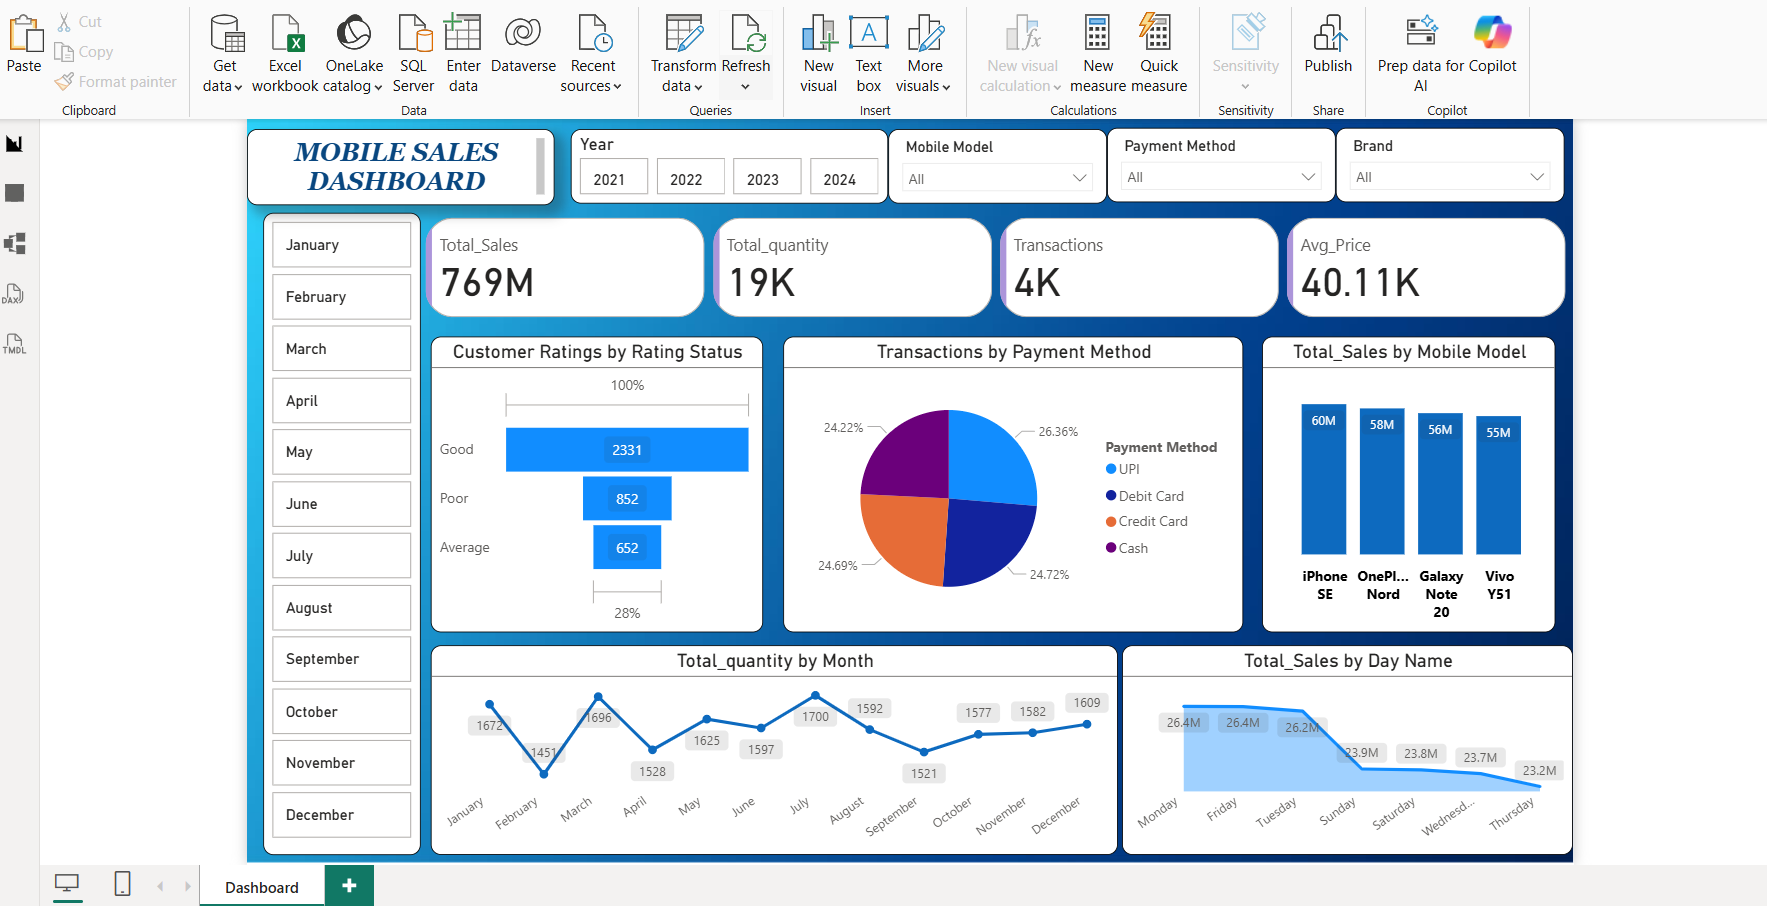

This screenshot's page, from the dashboard's own definition file:
{"tool":"powerbi","page":{"name":"Dashboard","canvas":[1280,720],"ordinal":0},"visuals":[{"type":"advancedSlicerVisual","fields":{"Values":["Custom_Calender.Date.Variation.Date Hierarchy.Month"]},"box":[15.7,90.5,152,620.1],"z":0},{"type":"cardVisual","fields":{"Data":["Sales_Data.Total_Sales","Sales_Data.Total_quantity","Sales_Data.Transactions","Sales_Data.Avg_Price"]},"box":[167.7,90.5,1112.3,106.2],"z":1000},{"type":"slicer","fields":{"Values":["Sales_Data.Mobile Model"]},"box":[618.9,9.7,211.1,72.4],"z":2000},{"type":"slicer","fields":{"Values":["Sales_Data.Brand"]},"box":[1050.8,8.4,220.8,72.4],"z":3000},{"type":"slicer","fields":{"Values":["Sales_Data.Payment Method"]},"box":[830,8.4,220.8,72.4],"z":4000},{"type":"textbox","box":[0,9.7,296.8,73.6],"z":5000},{"type":"lineChart","fields":{"Category":["Custom_Calender.Date.Variation.Date Hierarchy.Month"],"Y":["Sales_Data.Total_quantity"]},"box":[177.3,507.9,663.5,202.7],"z":6000},{"type":"funnel","title":" Customer Ratings by Rating Status","fields":{"Y":["CountNonNull(Sales_Data.Customer Ratings)"],"Category":["Sales_Data.Rating Status"]},"box":[177.3,209.9,320.9,285.9],"z":7000},{"type":"pieChart","fields":{"Y":["Sales_Data.Transactions"],"Category":["Sales_Data.Payment Method"]},"box":[517.6,209.9,444,285.9],"z":8000},{"type":"clusteredColumnChart","fields":{"Category":["Sales_Data.Mobile Model"],"Y":["Sales_Data.Total_Sales"]},"box":[979.6,209.9,283.5,285.9],"z":9000},{"type":"areaChart","fields":{"Category":["Custom_Calender.Day Name"],"Y":["Sales_Data.Total_Sales"]},"box":[844.5,507.9,435.5,202.7],"z":10000},{"type":"advancedSlicerVisual","fields":{"Values":["Custom_Calender.Date.Variation.Date Hierarchy.Year"]},"box":[312.5,9.7,306.4,72.4],"z":11000}]}

Visuals, with their boxes on the page's 1280x720 design canvas (x1, y1, x2, y2). These are canvas units, not pixel positions in the 1767x906 screenshot, which may show the page scaled, cropped or inside an application window:
advancedSlicerVisual - Custom_Calender.Date.Variation.Date Hierarchy.Month: [x1=16, y1=90, x2=168, y2=711]
cardVisual - Sales_Data.Total_Sales x Sales_Data.Total_quantity: [x1=168, y1=90, x2=1280, y2=197]
slicer - Sales_Data.Mobile Model: [x1=619, y1=10, x2=830, y2=82]
slicer - Sales_Data.Brand: [x1=1051, y1=8, x2=1272, y2=81]
slicer - Sales_Data.Payment Method: [x1=830, y1=8, x2=1051, y2=81]
textbox: [x1=0, y1=10, x2=297, y2=83]
lineChart - Custom_Calender.Date.Variation.Date Hierarchy.Month x Sales_Data.Total_quantity: [x1=177, y1=508, x2=841, y2=711]
" Customer Ratings by Rating Status" funnel: [x1=177, y1=210, x2=498, y2=496]
pieChart - Sales_Data.Transactions x Sales_Data.Payment Method: [x1=518, y1=210, x2=962, y2=496]
clusteredColumnChart - Sales_Data.Mobile Model x Sales_Data.Total_Sales: [x1=980, y1=210, x2=1263, y2=496]
areaChart - Custom_Calender.Day Name x Sales_Data.Total_Sales: [x1=844, y1=508, x2=1280, y2=711]
advancedSlicerVisual - Custom_Calender.Date.Variation.Date Hierarchy.Year: [x1=312, y1=10, x2=619, y2=82]
